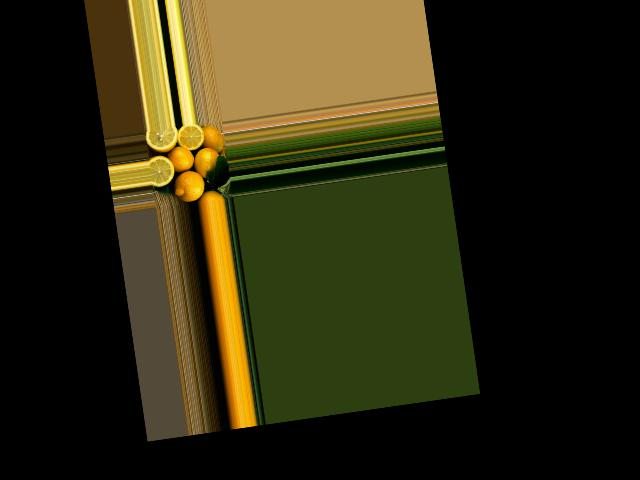lemon: (199, 123, 225, 155)
